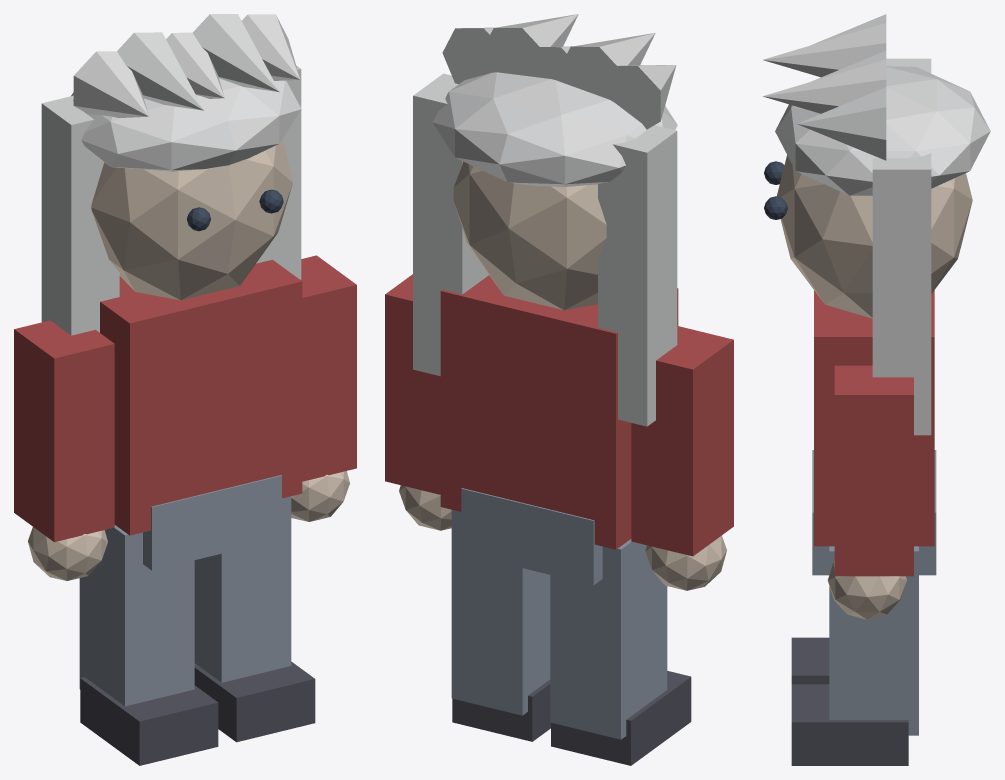
The model's file is jiraiya.glb.
3 renders of one model, left to right at view 1: azimuth 30°, elevation 25°; view 2: azimuth 150°, elevation 25°; view 3: azimuth 270°, elevation 25°, orthographic. The views are drawn at different scales.
Parts seen in each view (by area): view 1: part_000, part_010, part_002, part_004, part_019, part_013, part_008, part_006, part_001, part_005, part_009, part_014 (+7 smaller); view 2: part_000, part_002, part_019, part_004, part_013, part_010, part_008, part_020, part_001, part_006, part_005, part_015 (+7 smaller); view 3: part_006, part_020, part_013, part_010, part_008, part_000, part_009, part_018, part_015, part_017, part_007, part_005 (+3 smaller).
Part boxes in pixels (x1,y1,x2,y2): part_000: [100, 259, 302, 535]; part_010: [91, 139, 292, 300]; part_002: [14, 320, 114, 542]; part_004: [79, 525, 194, 706]; part_019: [41, 95, 119, 335]; part_013: [71, 78, 301, 171]; part_008: [194, 496, 291, 682]; part_006: [300, 255, 356, 481]; part_001: [143, 475, 281, 570]; part_005: [80, 677, 218, 765]; part_009: [194, 661, 315, 742]; part_014: [73, 51, 148, 117]; part_000: [440, 275, 678, 549]; part_002: [631, 326, 733, 556]; part_019: [598, 125, 677, 426]; part_004: [550, 539, 667, 739]; part_013: [432, 72, 677, 187]; part_010: [453, 161, 606, 310]; part_008: [451, 510, 550, 715]; part_020: [413, 73, 488, 376]; part_001: [461, 488, 602, 585]; part_006: [385, 274, 440, 494]; part_005: [551, 671, 691, 765]; part_015: [558, 33, 655, 103]; part_006: [834, 365, 913, 576]; part_020: [872, 153, 931, 435]; part_013: [775, 66, 990, 195]; part_010: [777, 155, 972, 318]; part_008: [829, 546, 918, 735]; part_000: [814, 290, 934, 546]; part_009: [791, 684, 908, 765]; part_018: [797, 87, 886, 160]; part_015: [763, 23, 886, 77]; part_017: [763, 59, 886, 113]; part_007: [827, 561, 906, 619]; part_005: [791, 637, 829, 684].
Bounding box in the file's own units: 1.03 × 2.17 × 0.6628.
